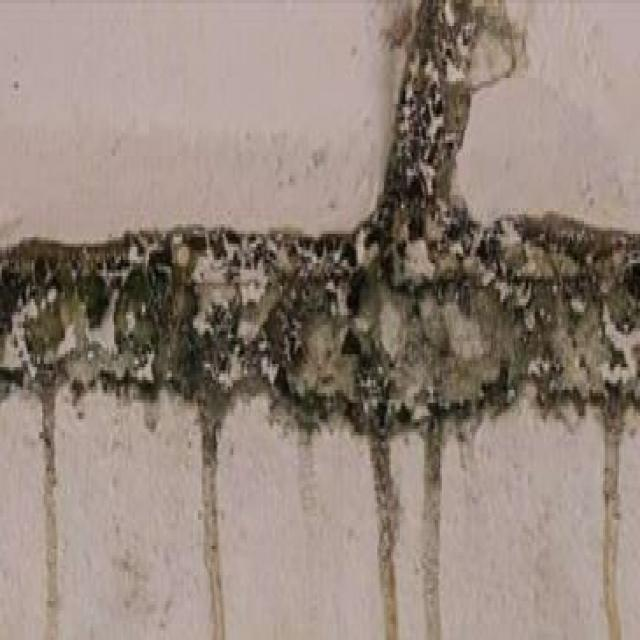wall_mold: (4, 221, 640, 440), (372, 0, 504, 220), (194, 439, 250, 640), (419, 439, 473, 640), (35, 437, 81, 640), (363, 438, 405, 640), (598, 444, 626, 640)
